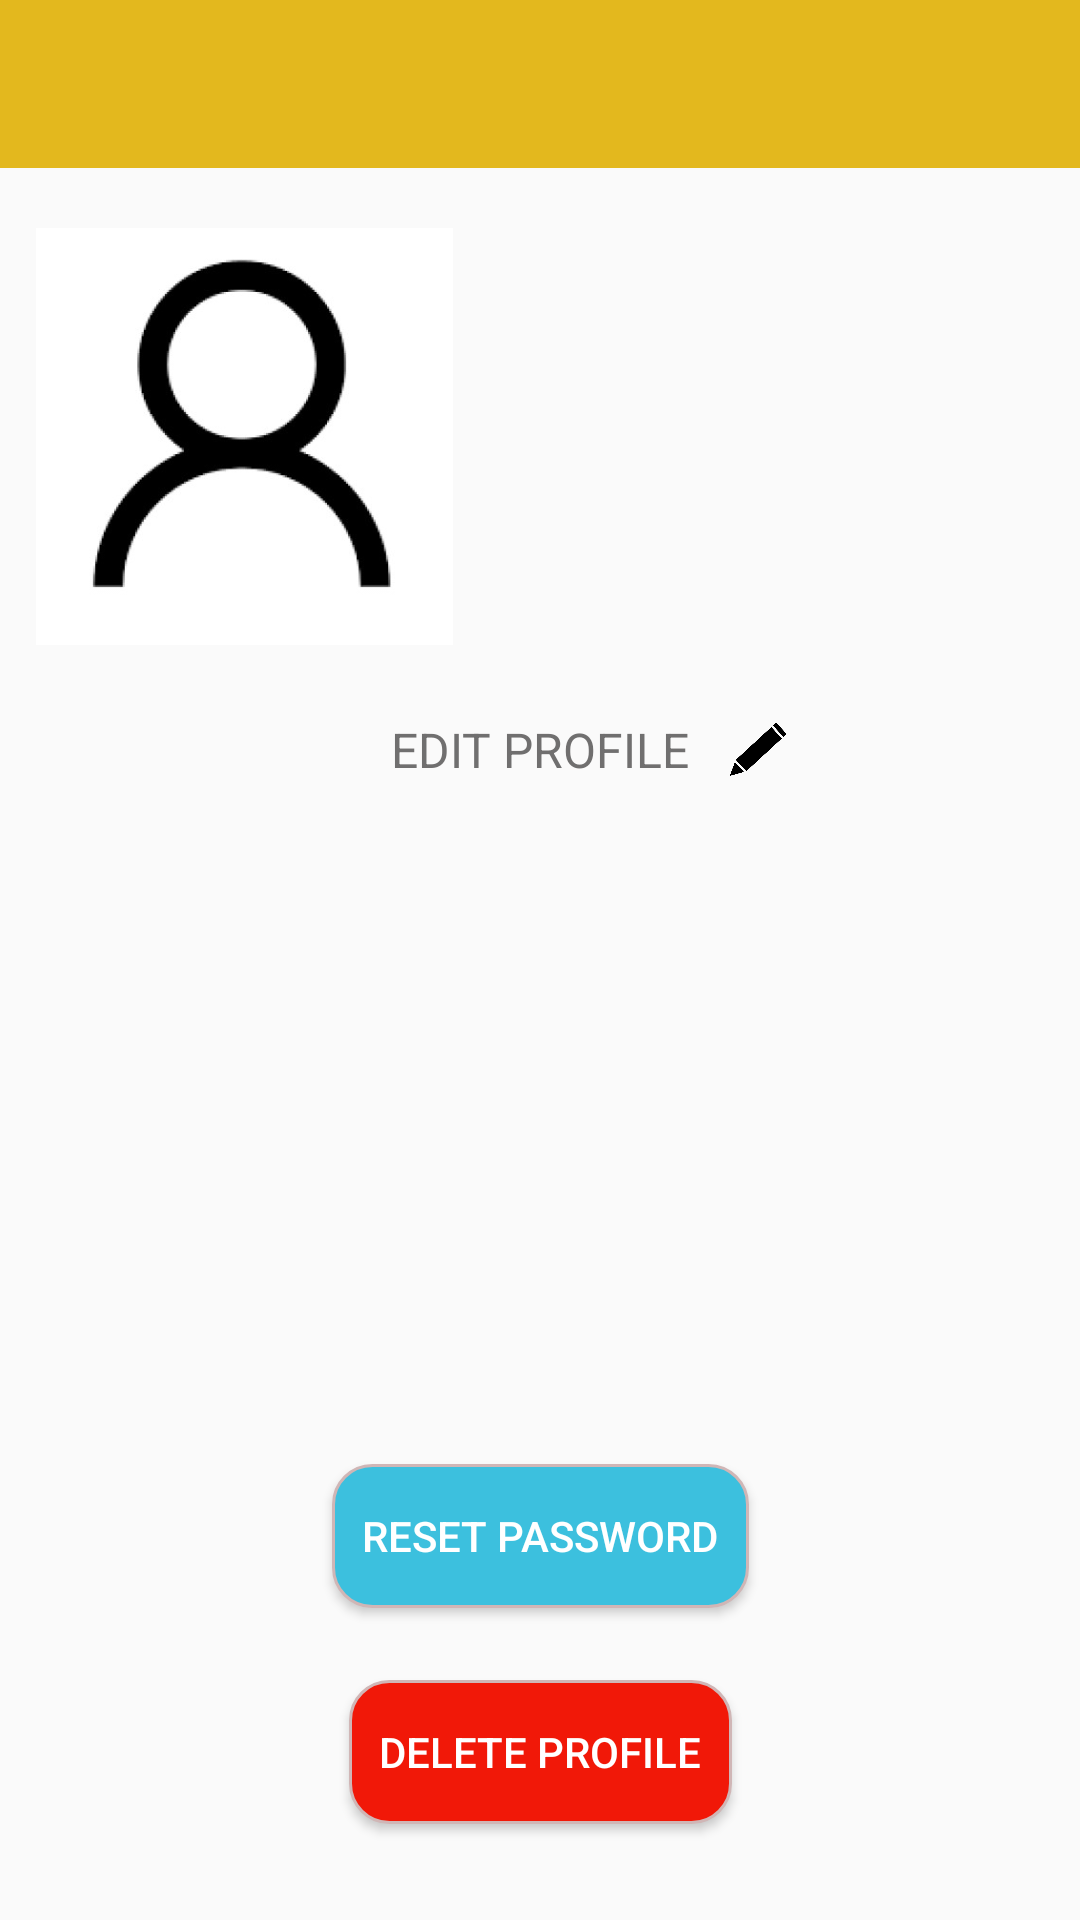

Icons on this 1080px×1920px Android screen, each with its box as Rect(x1, y1, x2, y2):
Pencil image: Rect(730, 723, 786, 776)
